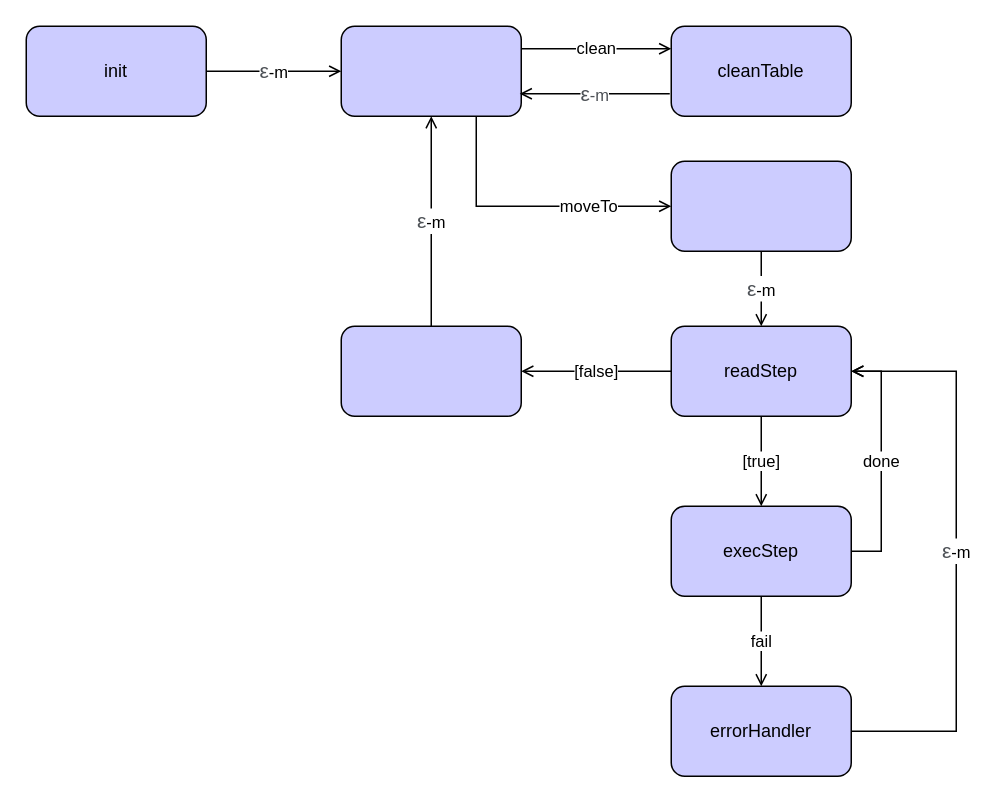
Some shapes in this 996 by 803 pixel diagram are drawn without their labels. The centre of each missing label's shape, as x and y in pixels:
endPath: the point at 430,370
planPath: the point at 760,205
waitCmd: the point at 430,70
